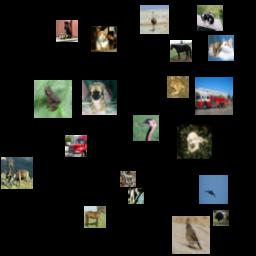airplane: (199, 175, 228, 204)
bird: (172, 216, 210, 254), (140, 5, 169, 34), (133, 115, 159, 141), (213, 210, 229, 226)
cat: (91, 26, 117, 52), (208, 35, 234, 61), (128, 188, 144, 204)
deer: (1, 157, 33, 189)
dog: (82, 80, 117, 115), (177, 124, 212, 159), (197, 5, 223, 31)
frog: (34, 80, 72, 118), (167, 76, 189, 98), (120, 171, 136, 187)
truck: (195, 77, 233, 115), (56, 20, 78, 42), (65, 135, 87, 157)
